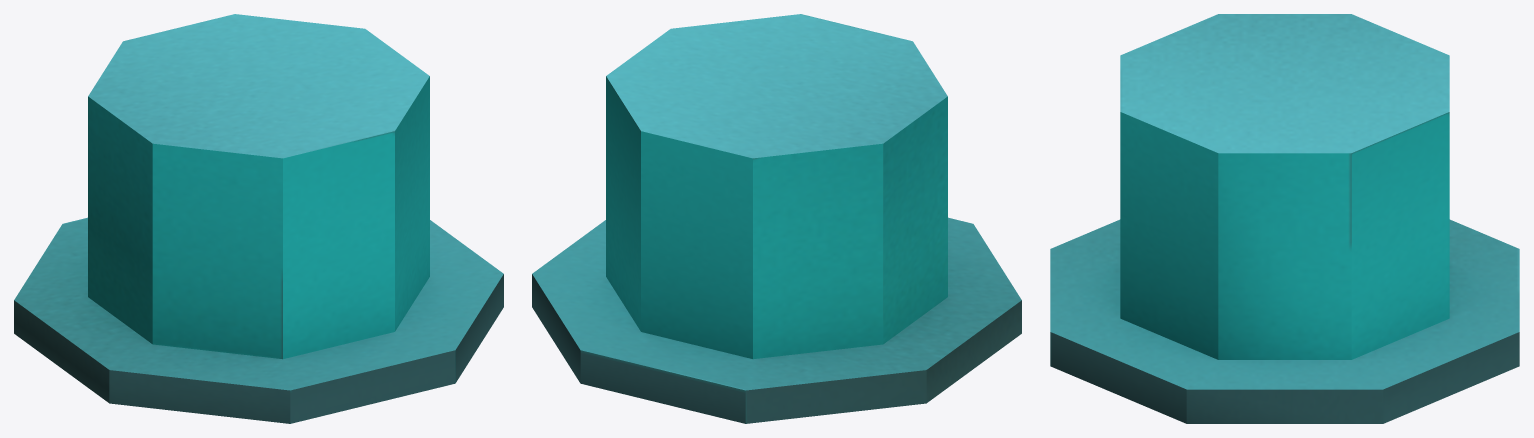
Rendered from Hat 5.FBX.
3 renders of one model, left to right at view 1: azimuth 30°, elevation 25°; view 2: azimuth 150°, elevation 25°; view 3: azimuth 270°, elevation 25°, orthographic. The views are drawn at different scales.
Visible parts, largest first — view 1: Hat5; view 2: Hat5; view 3: Hat5.
Part boxes in pixels (box(x1,y1,x2,y2)): Hat5: box(14, 14, 503, 423); Hat5: box(532, 14, 1021, 423); Hat5: box(1050, 14, 1519, 423).
Bounding box in the file's own units: 165 × 165 × 93.84.
1 material, 1 textured.
